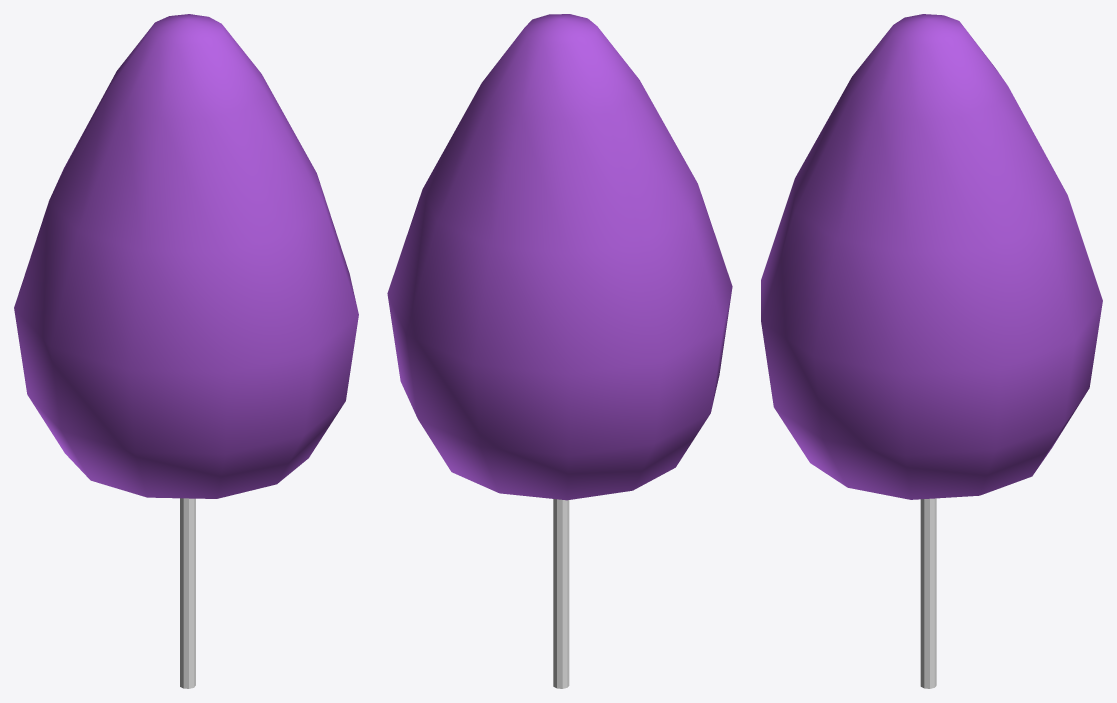
Rendered from 3_DarkPurpleTree.fbx.
3 views of the same model, side by side, from view 1: azimuth 30°, elevation 25°; view 2: azimuth 150°, elevation 25°; view 3: azimuth 270°, elevation 25° (orthographic).
Visible parts, largest first — view 1: Sphere.067, Cylinder.053; view 2: Sphere.067, Cylinder.053; view 3: Sphere.067, Cylinder.053.
Boxes of the visible parts, bbox=[...] form: Sphere.067: bbox=[14, 14, 358, 498]; Cylinder.053: bbox=[180, 498, 195, 688]; Sphere.067: bbox=[387, 14, 732, 500]; Cylinder.053: bbox=[553, 499, 569, 688]; Sphere.067: bbox=[761, 14, 1102, 499]; Cylinder.053: bbox=[920, 498, 936, 688].
Size of the model in its own units: 119 by 252 by 118.
